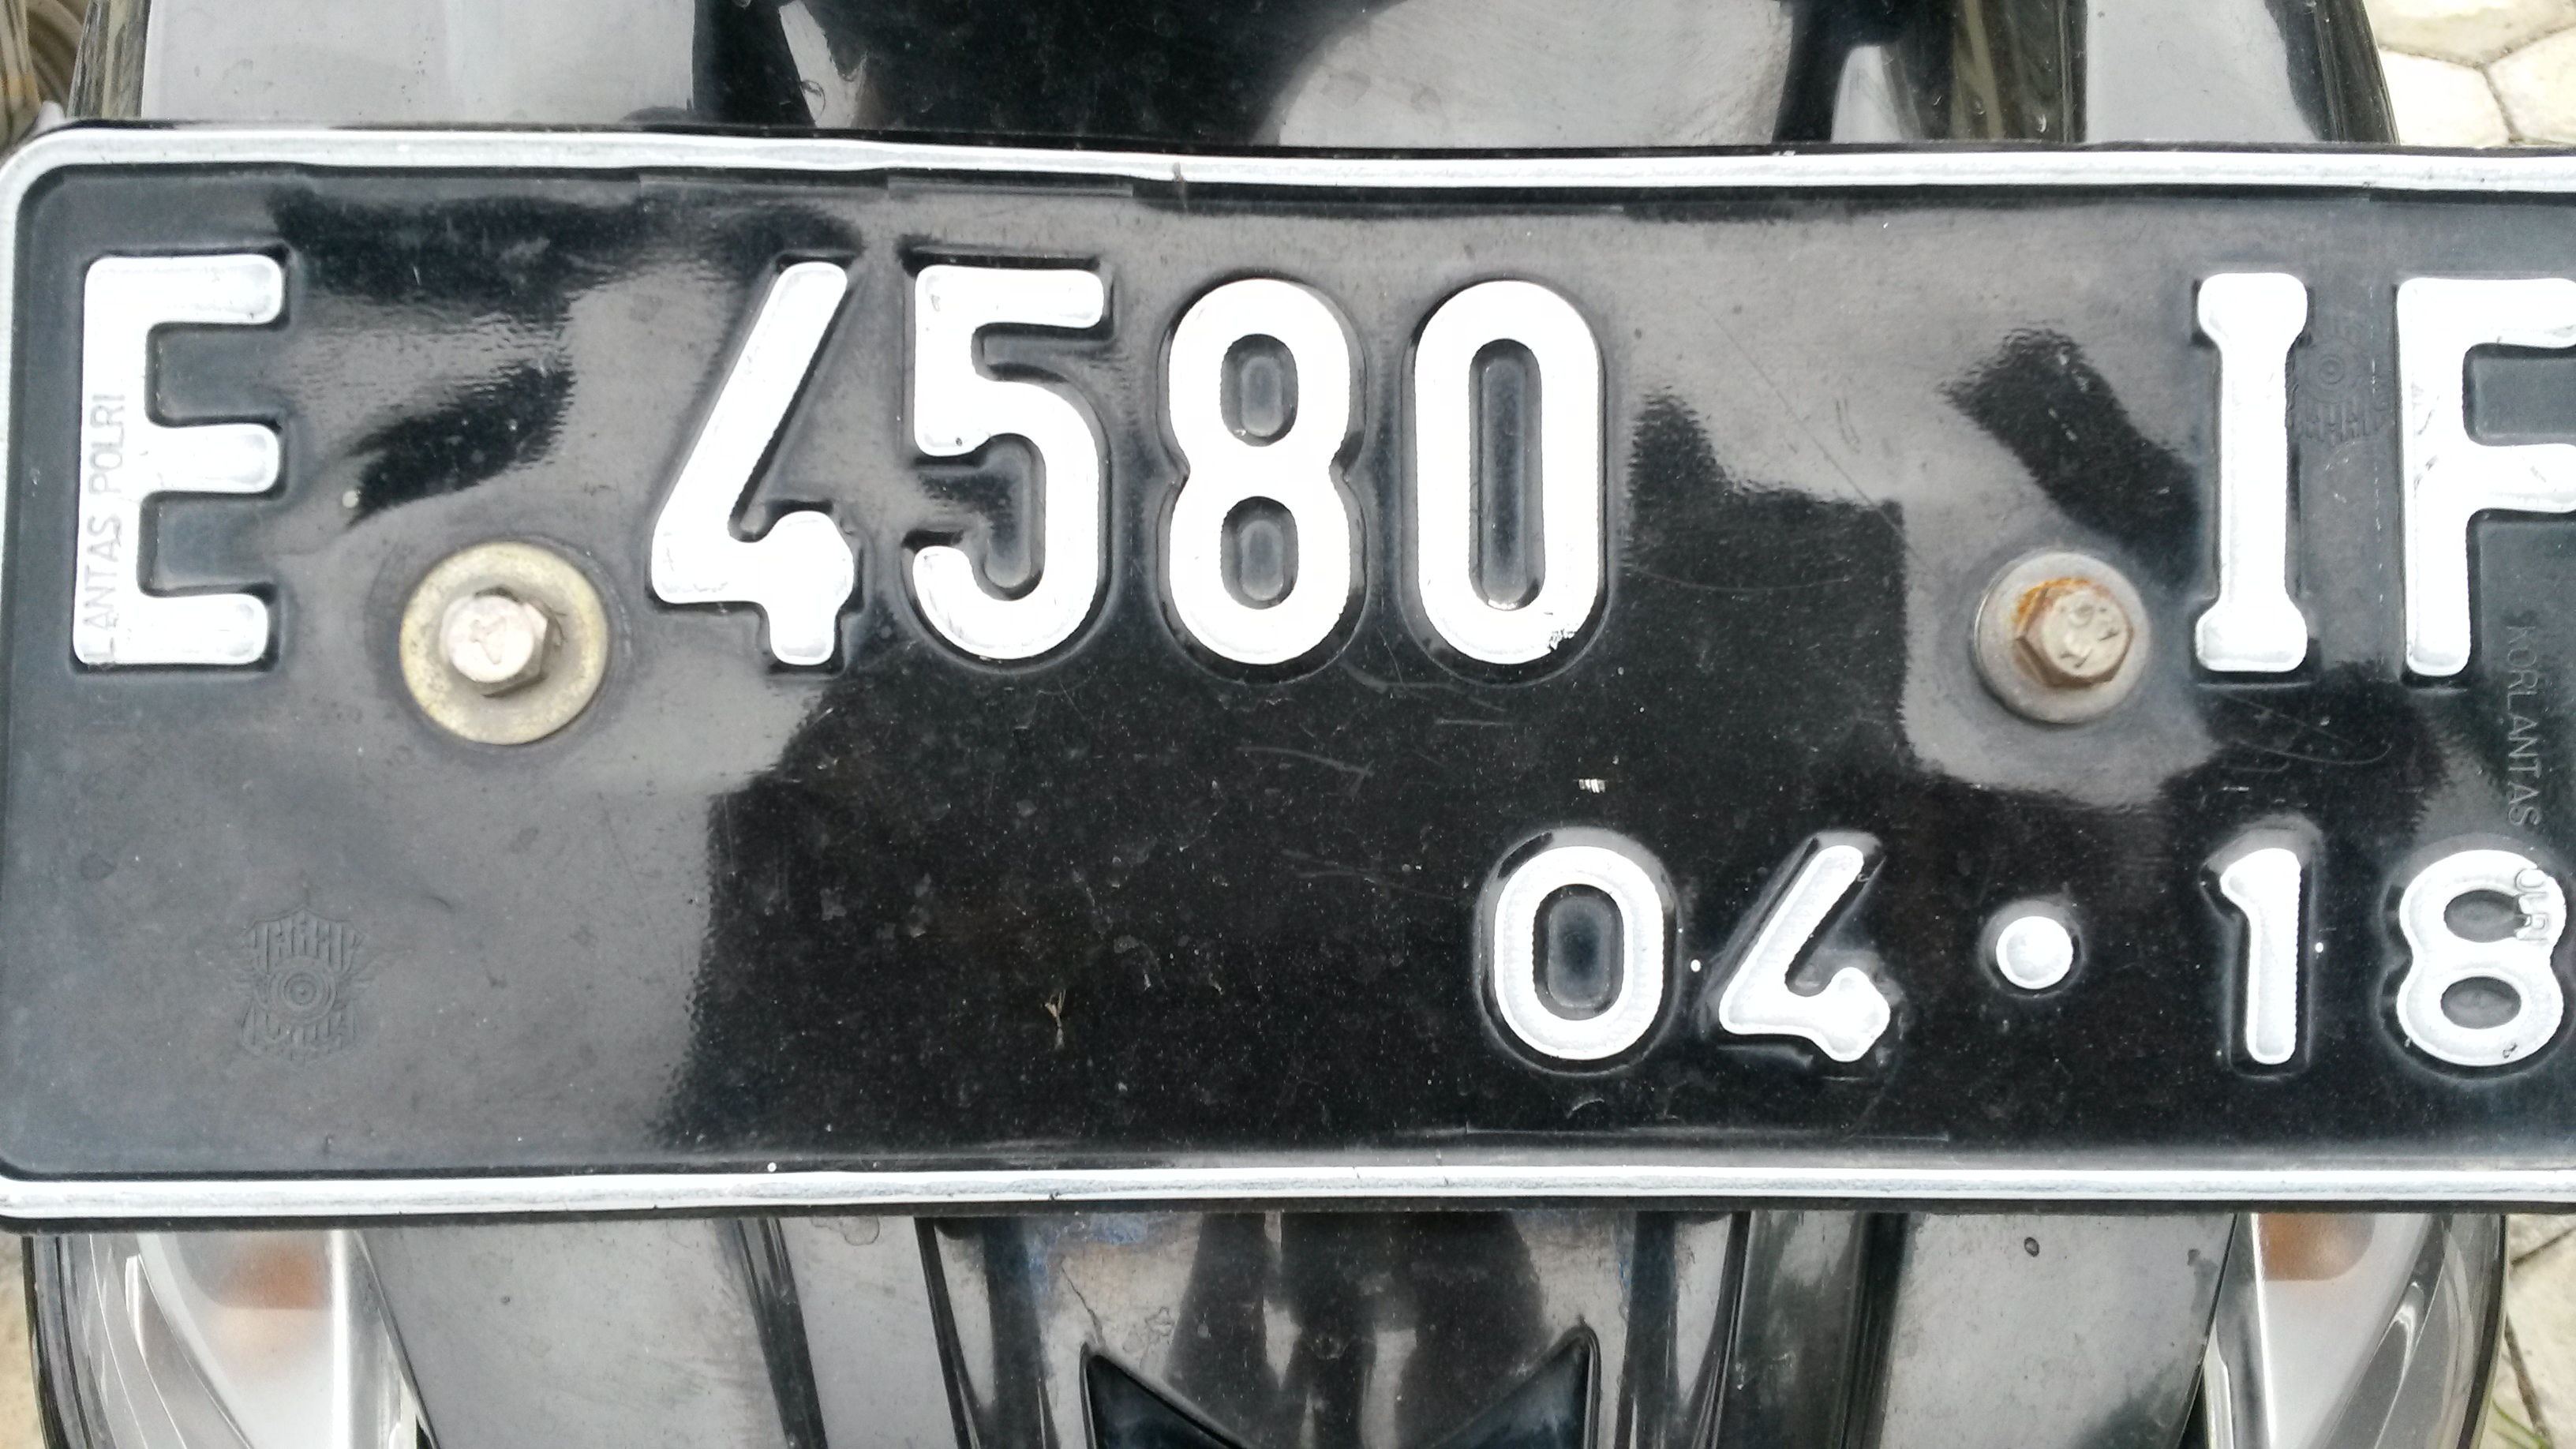plate: (2, 118, 2576, 1221)
